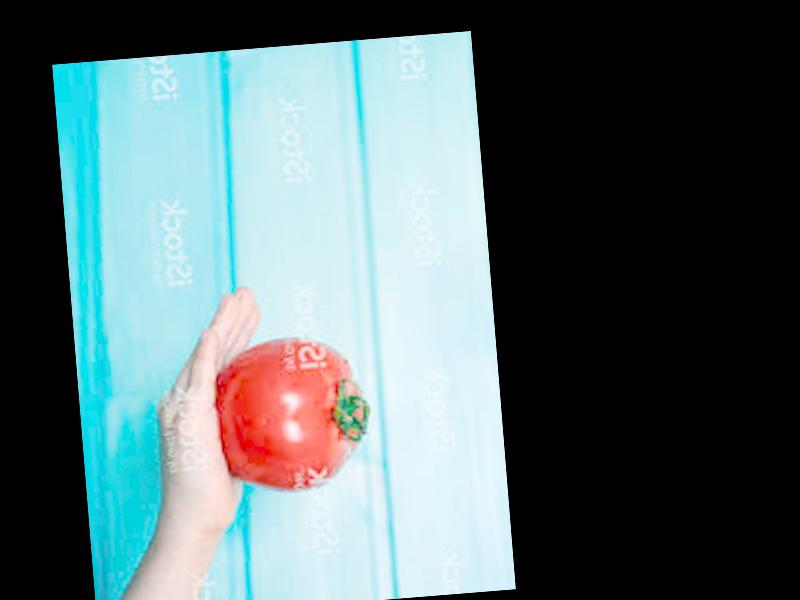Tomato: (210, 331, 373, 494)
